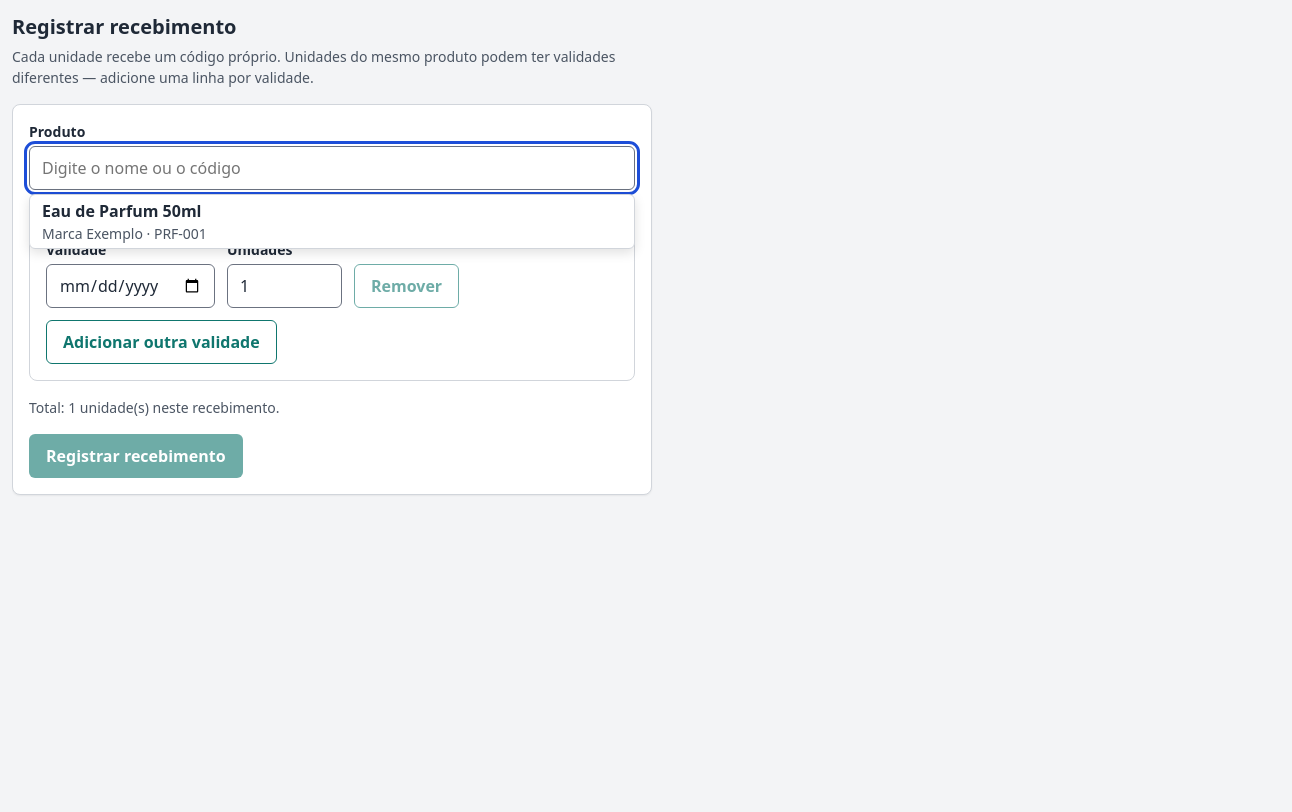
it: TelaRecebimento (RF03) › exibe o aviso de unidade já vencida sem tratá-lo como erro
This screenshot has width=1292, height=812.
Click the option "Eau de Parfum 50ml Marca Exemplo · PRF-001" at (124, 222), box [42,200,207,243]
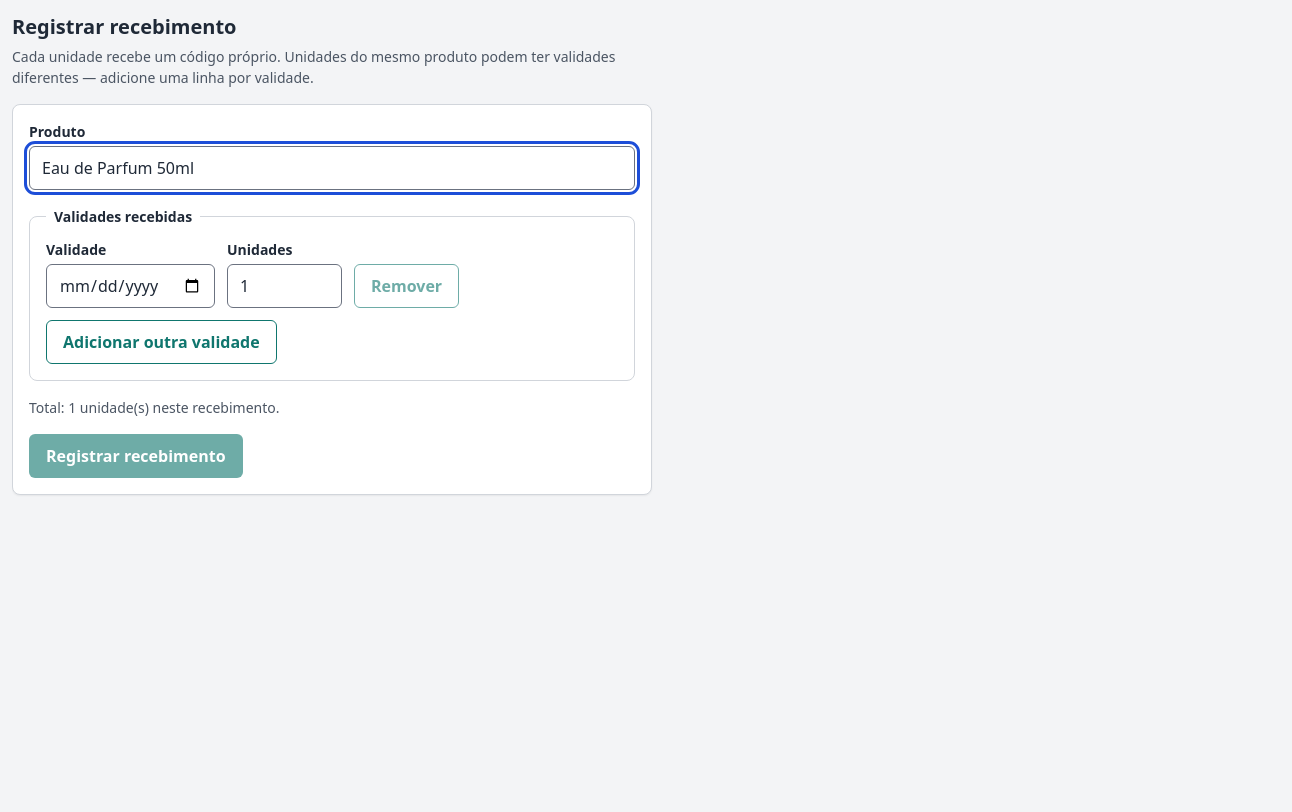
Type "2020-01-01" into the date field labelled "Validade" at (130, 286), box [46,264,215,308]
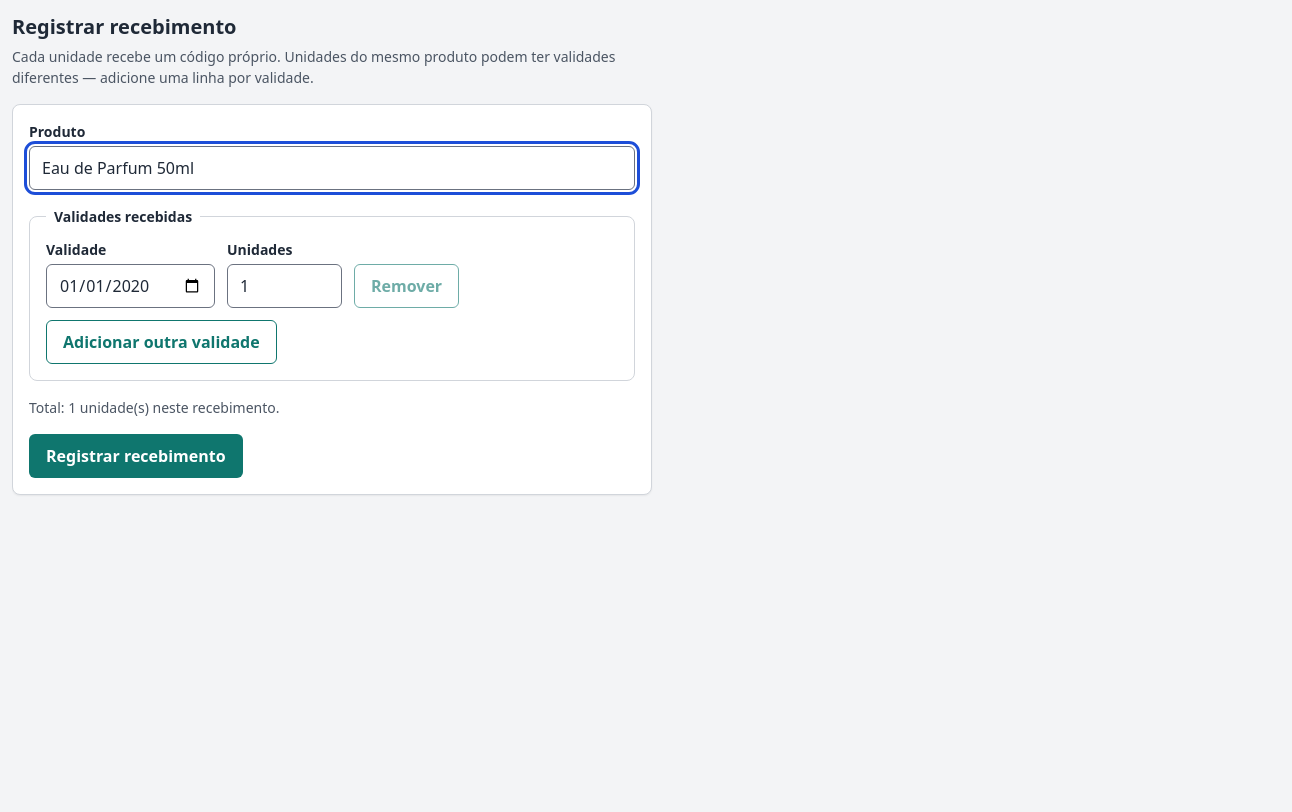
Click the button "Registrar recebimento" at (136, 456), box [29,434,243,478]
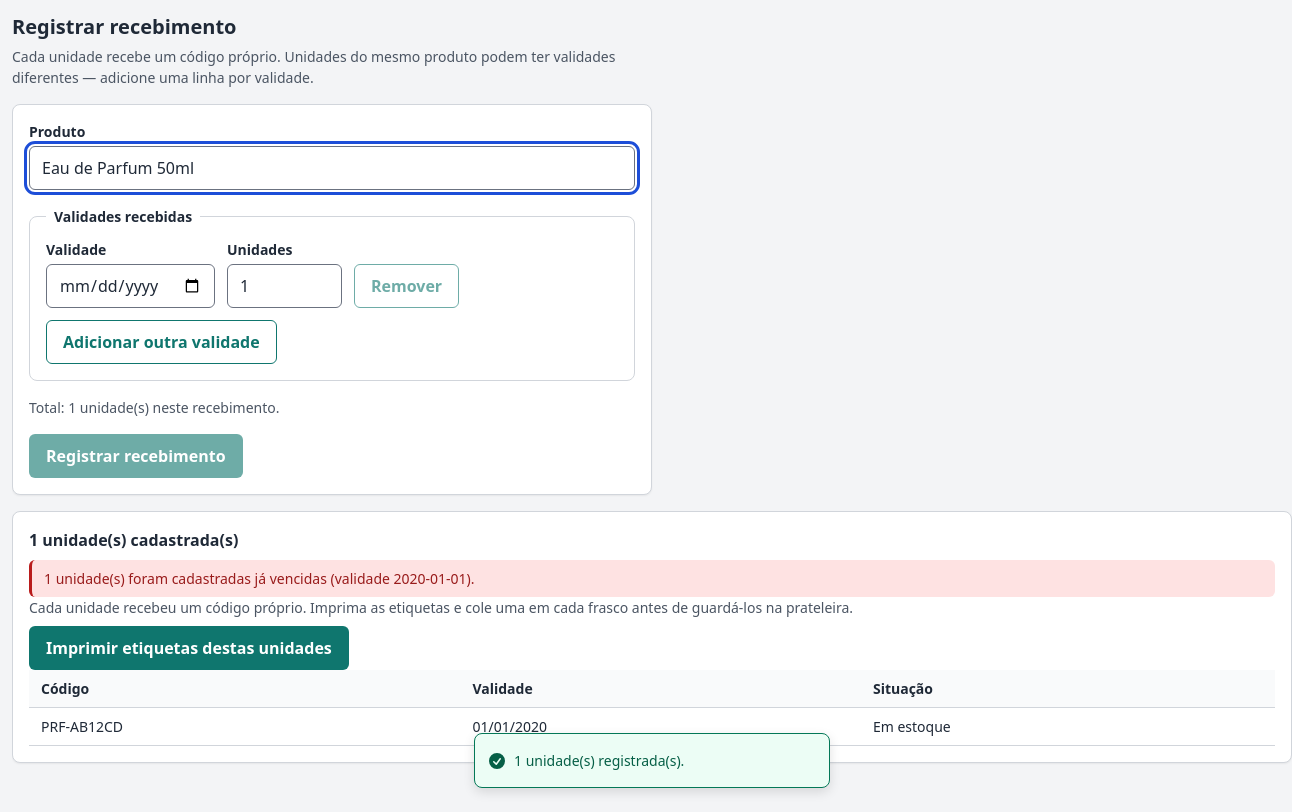
Now the text "PRF-AB12CD" is shown, box [29,708,460,746]
Now the message shows "já vencidas", box [44,569,475,588]
